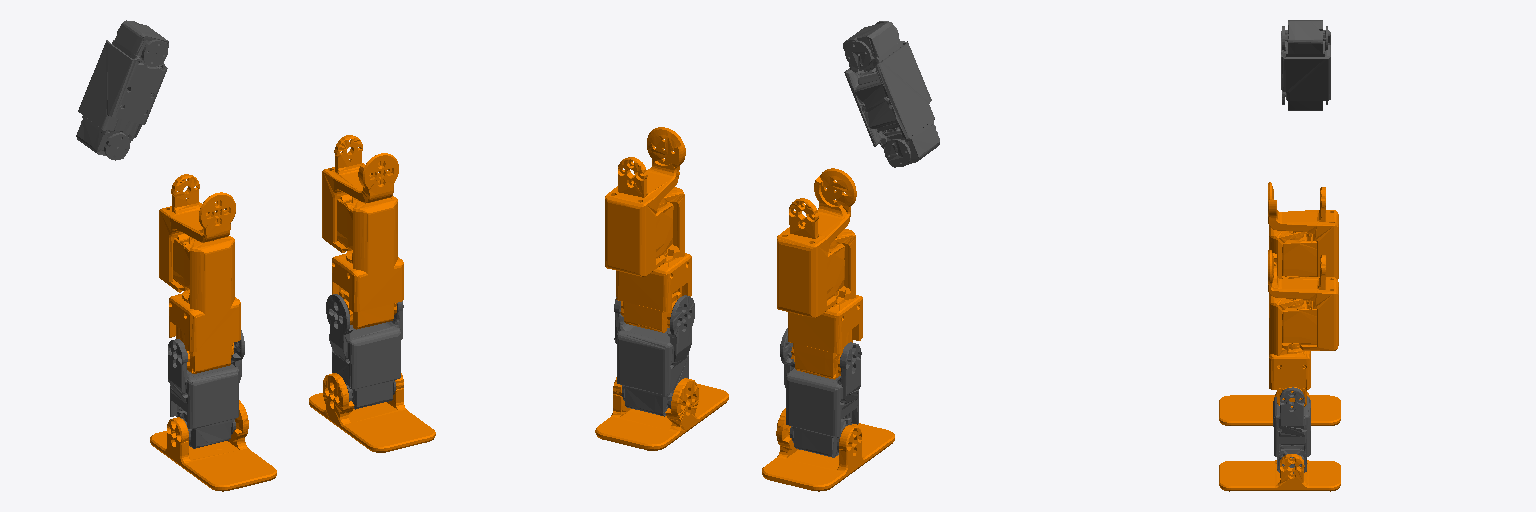
The robot description file, URDF, robot "opus":
<robot name="opus">
  <link name="base">
    <inertial>
      <origin rpy="0 0 0" xyz="0 0 0"/>
      <mass value="0.001"/>
      <inertia ixx="0.000001" ixy="0" ixz="0" iyy="0.000001" iyz="0" izz="0.000001"/>
    </inertial>
  </link>
  <joint name="floating_base" type="fixed">
    <origin rpy="0 0 0" xyz="0 0 0"/>
    <parent link="base"/>
    <child link="Torso"/>
  </joint>
  <link name="Torso">
    <visual>
      <origin xyz="0 0 0" rpy="0 0 0"/>
      <geometry>
        <mesh filename="meshes/Torso.stl"/>
      </geometry>
      <material name="Torso_material">
        <color rgba="0.97254902 0.52941176 0.0039215686 1"/>
      </material>
    </visual>
    <collision>
      <origin xyz="0 0 0" rpy="0 0 0"/>
      <geometry>
        <mesh filename="meshes/Torso.stl"/>
      </geometry>
    </collision>
    <inertial>
      <!-- <mass value="1.4248854441999999"/> -->
      <mass value="1.8248854441999999"/>  <!--用了树脂，重一点点-->
      <inertia ixx="0.0058765463412301395" iyy="0.007356520447853829" izz="0.0023081915779076274" ixy="9.865741890823216e-06" ixz="-7.809997435713428e-05" iyz="0.0004224337112785788"/>
      <origin xyz="0.0005354863436864534 0.0062555554048130445 -0.002152396880228525" rpy="0 0 0"/>
    </inertial>
  </link>
  <joint name="right_shoulder_pitch" type="fixed">
    <origin xyz="-0.07825018475169968 -0.0003268979182753165 0.04615118291827534" rpy="1.5707963 2.220446049250313e-16 1.5707963"/>
    <parent link="Torso"/>
    <child link="right_shoulder_yaw_2"/>
    <limit effort="80" velocity="5" lower="-1.7453293" upper="1.7453293"/>
    <axis xyz="0 0 1"/>
  </joint>
  <link name="right_shoulder_yaw_2">
    <visual>
      <origin xyz="0 0 0" rpy="0 0 0"/>
      <geometry>
        <mesh filename="meshes/right_shoulder_yaw.stl"/>
      </geometry>
      <material name="right_shoulder_yaw_material">
        <color rgba="0.97254902 0.52941176 0.0039215686 1"/>
      </material>
    </visual>
    <collision>
      <origin xyz="0 0 0" rpy="0 0 0"/>
      <geometry>
        <mesh filename="meshes/right_shoulder_yaw.stl"/>
      </geometry>
    </collision>
    <inertial>
      <mass value="0.033295451"/>
      <inertia ixx="8.4337445e-06" iyy="1.8636933e-05" izz="1.8203633e-05" ixy="0" ixz="0" iyz="-1.3716156e-06"/>
      <origin xyz="-0.000140403 -0.0029678782 -0.016943877" rpy="0 0 0"/>
    </inertial>
  </link>
  <joint name="left_shoulder_pitch" type="fixed">
    <origin xyz="0.07804981964830031 -0.0003268980817246539 0.04615118308172467" rpy="-1.5707963071795865 0.0 1.5707963000000003"/>
    <parent link="Torso"/>
    <child link="left_shoulder_yaw_2"/>
    <limit effort="80" velocity="5" lower="-1.7453293" upper="1.7453293"/>
    <axis xyz="0 0 1"/>
  </joint>
  <link name="left_shoulder_yaw_2">
    <visual>
      <origin xyz="0 0 0" rpy="0 0 0"/>
      <geometry>
        <mesh filename="meshes/left_shoulder_yaw.stl"/>
      </geometry>
      <material name="left_shoulder_yaw_material">
        <color rgba="0.97254902 0.52941176 0.0039215686 1"/>
      </material>
    </visual>
    <collision>
      <origin xyz="0 0 0" rpy="0 0 0"/>
      <geometry>
        <mesh filename="meshes/left_shoulder_yaw.stl"/>
      </geometry>
    </collision>
    <inertial>
      <mass value="0.033295444"/>
      <inertia ixx="8.4337338e-06" iyy="1.8636945e-05" izz="1.8203656e-05" ixy="0" ixz="0" iyz="1.3716155e-06"/>
      <origin xyz="-0.00014038019 0.0029678794 -0.016943901" rpy="0 0 0"/>
    </inertial>
  </link>
  <joint name="right_shoulder_yaw" type="fixed">
    <origin xyz="-0.018825 -0.01629921 -0.03" rpy="0 -1.5707963 0"/>
    <parent link="right_shoulder_yaw_2"/>
    <child link="right_shoulder_yaw_motor"/>
    <limit effort="80" velocity="5" lower="-1.134464" upper="0.87266463"/>
    <axis xyz="0 0 1"/>
  </joint>
  <link name="right_shoulder_yaw_motor">
    <visual>
      <origin xyz="0 0 0" rpy="0 0 0"/>
      <geometry>
        <mesh filename="meshes/right_shoulder_yaw_motor.stl"/>
      </geometry>
      <material name="right_shoulder_yaw_motor_material">
        <color rgba="0.4 0.4 0.4 1"/>
      </material>
    </visual>
    <collision>
      <origin xyz="0 0 0" rpy="0 0 0"/>
      <geometry>
        <mesh filename="meshes/right_shoulder_yaw_motor.stl"/>
      </geometry>
    </collision>
    <inertial>
      <mass value="0.16128786299999998"/>
      <inertia ixx="0.0001282286460978685" iyy="5.714169492467824e-05" izz="0.0001340210993915087" ixy="-4.239759029152751e-05" ixz="-1.1438396608325489e-07" iyz="-2.456214639269448e-07"/>
      <origin xyz="-0.015010430955184173 -0.032187644034412904 -0.01778065605422706" rpy="0 0 0"/>
    </inertial>
  </link>
  <joint name="right_hip_pitch" type="revolute">
    <origin xyz="-0.045750183202404315 -0.00032689585567163837 -0.09684882247403085" rpy="-1.570796353589792 -4.6410206566704915e-08 1.5707963000000003"/>
    <parent link="Torso"/>
    <child link="hip_yaw_right"/>
    <limit effort="2" velocity="10" lower="-1.5707963" upper="1.5707963"/>
    <axis xyz="0 0 -1"/>
  </joint>
  <link name="hip_yaw_right">
    <visual>
      <origin xyz="0 0 0" rpy="0 0 0"/>
      <geometry>
        <mesh filename="meshes/hip_yaw_right.stl"/>
      </geometry>
      <material name="hip_yaw_right_material">
        <color rgba="0.97254902 0.52941176 0.0039215686 1"/>
      </material>
    </visual>
    <collision>
      <origin xyz="0 0 0" rpy="0 0 0"/>
      <geometry>
        <mesh filename="meshes/hip_yaw_right.stl"/>
      </geometry>
    </collision>
    <inertial>
      <mass value="0.093205286"/>
      <inertia ixx="3.5980932688562516e-05" iyy="3.079475868405246e-05" izz="3.363688474491135e-05" ixy="-8.041868600591185e-08" ixz="-1.32710024572971e-07" iyz="2.5815838594594426e-07"/>
      <origin xyz="-0.007829567118794163 -0.00031535700327284103 0.01632971429397496" rpy="0 0 0"/>
    </inertial>
  </link>
  <joint name="left_hip_pitch" type="revolute">
    <origin xyz="0.045549819648300315 -0.0003268960191209584 -0.09684882247403085" rpy="1.5707963535897942 -4.6410206566704915e-08 1.5707963000000003"/>
    <parent link="Torso"/>
    <child link="hip_yaw_left"/>
    <limit effort="2" velocity="10" lower="-1.5707963" upper="1.5707963"/>
    <axis xyz="0 0 -1"/>
  </joint>
  <link name="hip_yaw_left">
    <visual>
      <origin xyz="0 0 0" rpy="0 0 0"/>
      <geometry>
        <mesh filename="meshes/hip_yaw_left.stl"/>
      </geometry>
      <material name="hip_yaw_left_material">
        <color rgba="0.97254902 0.52941176 0.0039215686 1"/>
      </material>
    </visual>
    <collision>
      <origin xyz="0 0 0" rpy="0 0 0"/>
      <geometry>
        <mesh filename="meshes/hip_yaw_left.stl"/>
      </geometry>
    </collision>
    <inertial>
      <mass value="0.093205265"/>
      <inertia ixx="3.598094322914315e-05" iyy="3.0794767684145586e-05" izz="3.363688296133449e-05" ixy="8.04201734823105e-08" ixz="-1.327123118684062e-07" iyz="-2.5815315823833023e-07"/>
      <origin xyz="-0.007829559049593036 0.0003153554269474904 0.01632971106200663" rpy="0 0 0"/>
    </inertial>
  </link>
  <joint name="left_shoulder_yaw" type="fixed">
    <origin xyz="-0.018825 0.01629921 -0.03" rpy="3.1415927 1.5707963 0"/>
    <parent link="left_shoulder_yaw_2"/>
    <child link="left_shoulder_yaw_motor"/>
    <limit effort="80" velocity="5" lower="-0.43633231" upper="1.5707963"/>
    <axis xyz="0 0 1"/>
  </joint>
  <link name="left_shoulder_yaw_motor">
    <visual>
      <origin xyz="0 0 0" rpy="0 0 0"/>
      <geometry>
        <mesh filename="meshes/left_shoulder_yaw_motor.stl"/>
      </geometry>
      <material name="left_shoulder_yaw_motor_material">
        <color rgba="0.4 0.4 0.4 1"/>
      </material>
    </visual>
    <collision>
      <origin xyz="0 0 0" rpy="0 0 0"/>
      <geometry>
        <mesh filename="meshes/left_shoulder_yaw_motor.stl"/>
      </geometry>
    </collision>
    <inertial>
      <mass value="0.161287862"/>
      <inertia ixx="0.00012823543337938677" iyy="5.71349654400984e-05" izz="0.00013402113588758784" ixy="4.236890115425267e-05" ixz="1.1438294712508704e-07" iyz="-2.4561958173304096e-07"/>
      <origin xyz="0.015010431336856738 -0.03218764425115605 -0.017780665683893915" rpy="0 0 0"/>
    </inertial>
  </link>
  <joint name="right_hip_yaw" type="revolute">
    <origin xyz="-0.02550000162875169 0 0.019359999918275368" rpy="9.282041333256968e-08 1.5707963000000005 0.0"/>
    <parent link="hip_yaw_right"/>
    <child link="hip_roll_right"/>
    <limit effort="2" velocity="10" lower="-0.3" upper="0.1"/>
    <axis xyz="0 0 1"/>
  </joint>
  <link name="hip_roll_right">
    <visual>
      <origin xyz="0 0 0" rpy="0 0 0"/>
      <geometry>
        <mesh filename="meshes/hip_roll_right.stl"/>
      </geometry>
      <material name="hip_roll_right_material">
        <color rgba="0.97254902 0.52941176 0.0039215686 1"/>
      </material>
    </visual>
    <collision>
      <origin xyz="0 0 0" rpy="0 0 0"/>
      <geometry>
        <mesh filename="meshes/hip_roll_right.stl"/>
      </geometry>
    </collision>
    <inertial>
      <mass value="0.09928883999999999"/>
      <inertia ixx="5.45820585897724e-05" iyy="3.1418507176367875e-05" izz="3.7405777942224154e-05" ixy="6.085393720802971e-08" ixz="-1.365718623147563e-08" iyz="-2.939852904112034e-06"/>
      <origin xyz="3.956240018912118e-05 0.044547258633220656 0.027195276046662446" rpy="0 0 0"/>
    </inertial>
  </link>
  <joint name="left_hip_yaw" type="revolute">
    <origin xyz="-0.02550000297464769 0 0.01936000008172467" rpy="-3.1415926071795863 -1.5707963 0.0"/>
    <parent link="hip_yaw_left"/>
    <child link="hip_roll_left"/>
    <limit effort="2" velocity="10" lower="-0.1" upper="0.3"/>
    <axis xyz="0 0 1"/>
  </joint>
  <link name="hip_roll_left">
    <visual>
      <origin xyz="0 0 0" rpy="0 0 0"/>
      <geometry>
        <mesh filename="meshes/hip_roll_left.stl"/>
      </geometry>
      <material name="hip_roll_left_material">
        <color rgba="0.97254902 0.52941176 0.0039215686 1"/>
      </material>
    </visual>
    <collision>
      <origin xyz="0 0 0" rpy="0 0 0"/>
      <geometry>
        <mesh filename="meshes/hip_roll_left.stl"/>
      </geometry>
    </collision>
    <inertial>
      <mass value="0.099288915"/>
      <inertia ixx="5.458213655994396e-05" iyy="3.1418545608837986e-05" izz="3.7405827480720214e-05" ixy="-6.085408209304445e-08" ixz="1.3657291982195708e-08" iyz="-2.9398246336732913e-06"/>
      <origin xyz="-3.956346057105248e-05 0.0445472299493746 0.0271952803565074" rpy="0 0 0"/>
    </inertial>
  </link>
  <joint name="right_elbow_yaw" type="fixed">
    <origin xyz="-0.030003116165437632 -0.06434189265302206 -0.03815000134589600138" rpy="0 -1.961380480253183e-08 2.7052603000000013"/>
    <parent link="right_shoulder_yaw_motor"/>
    <child link="right_hand"/>
    <limit effort="2" velocity="10" lower="-1.57" upper="1.57"/>
    <axis xyz="0 0 1"/>
  </joint>
  <link name="right_hand">
    <visual>
      <origin xyz="0 0 0" rpy="0 0 0"/>
      <geometry>
        <mesh filename="meshes/right_hand.stl"/>
      </geometry>
      <material name="right_hand_material">
        <color rgba="0.98039216 0.71372549 0.0039215686 1"/>
      </material>
    </visual>
    <collision>
      <origin xyz="0 0 0" rpy="0 0 0"/>
      <geometry>
        <mesh filename="meshes/right_hand.stl"/>
      </geometry>
    </collision>
    <inertial>
      <mass value="0.057633913"/>
      <inertia ixx="4.3605723e-05" iyy="1.217183e-05" izz="3.5510016e-05" ixy="0" ixz="0" iyz="1.2142684e-06"/>
      <origin xyz="-3.1209033e-05 -0.045881174 0.018344256" rpy="0 0 0"/>
    </inertial>
  </link>
  <joint name="left_elbow_yaw" type="fixed">
    <origin xyz="0.03000311710160605 -0.06434189183411612 -0.03815000134589600138" rpy="0 -1.7763568394002505e-15 -2.70526039"/>
    <parent link="left_shoulder_yaw_motor"/>
    <child link="left_hand"/>
    <limit effort="2" velocity="10" lower="-1.5707963" upper="1.5707963"/>
    <axis xyz="0 0 1"/>
  </joint>
  <link name="left_hand">
    <visual>
      <origin xyz="0 0 0" rpy="0 0 0"/>
      <geometry>
        <mesh filename="meshes/left_hand.stl"/>
      </geometry>
      <material name="left_hand_material">
        <color rgba="0.98039216 0.71372549 0.0039215686 1"/>
      </material>
    </visual>
    <collision>
      <origin xyz="0 0 0" rpy="0 0 0"/>
      <geometry>
        <mesh filename="meshes/left_hand.stl"/>
      </geometry>
    </collision>
    <inertial>
      <mass value="0.057634594"/>
      <inertia ixx="4.3606206e-05" iyy="1.2172072e-05" izz="3.5510313e-05" ixy="0" ixz="0" iyz="1.2144458e-06"/>
      <origin xyz="3.124228e-05 -0.045881024 0.018344103" rpy="0 0 0"/>
    </inertial>
  </link>
  <joint name="right_hip_roll" type="revolute">
    <origin xyz="0.0 0.07776001212246713 0.015000000939161373" rpy="-1.5707963 0.0 0.0"/>
    <parent link="hip_roll_right"/>
    <child link="knee_pitch_right"/>
    <limit effort="2" velocity="10" lower="-0.78539816" upper="0.78539816"/>
    <axis xyz="0 0 -1"/>
  </joint>
  <link name="knee_pitch_right">
    <visual>
      <origin xyz="0 0 -0.01" rpy="0 0 0"/>
      <geometry>
        <mesh filename="meshes/knee_pitch_right.stl"/>
      </geometry>
      <material name="knee_pitch_right_material">
        <color rgba="0.97254902 0.52941176 0.0039215686 1"/>
      </material>
    </visual>
    <collision>
      <origin xyz="0 0 0" rpy="0 0 0"/>
      <geometry>
        <mesh filename="meshes/knee_pitch_right.stl"/>
      </geometry>
    </collision>
    <inertial>
      <mass value="0.017415556"/>
      <inertia ixx="8.6779628e-06" iyy="1.0846052e-05" izz="4.8769685e-06" ixy="0" ixz="0" iyz="1.5102056e-06"/>
      <origin xyz="0.0008320716 0.0066344401 -0.0053563614" rpy="0 0 0"/>
    </inertial>
  </link>
  <joint name="left_hip_roll" type="revolute">
    <origin xyz="0.0 0.07776001212246713 0.014999999060838654" rpy="-1.5707963071795865 0.0 0.0"/>
    <parent link="hip_roll_left"/>
    <child link="knee_pitch_left"/>
    <limit effort="2" velocity="10" lower="-0.78539816" upper="0.78539816"/>
    <axis xyz="0 0 -1"/>
  </joint>
  <link name="knee_pitch_left">
    <visual>
      <origin xyz="0 0 -0.01" rpy="0 0 0"/>
      <geometry>
        <mesh filename="meshes/knee_pitch_left.stl"/>
      </geometry>
      <material name="knee_pitch_left_material">
        <color rgba="0.97254902 0.52941176 0.0039215686 1"/>
      </material>
    </visual>
    <collision>
      <origin xyz="0 0 0" rpy="0 0 0"/>
      <geometry>
        <mesh filename="meshes/knee_pitch_left.stl"/>
      </geometry>
    </collision>
    <inertial>
      <mass value="0.017415406"/>
      <inertia ixx="8.6779408e-06" iyy="1.0845969e-05" izz="4.8769057e-06" ixy="0" ixz="0" iyz="1.5102123e-06"/>
      <origin xyz="-0.00083189379 0.0066344111 -0.0053564637" rpy="0 0 0"/>
    </inertial>
  </link>
  <joint name="left_knee_pitch" type="revolute">
    <origin xyz="0.020825 0 0.03271" rpy="1.5707963 0 -1.5707963"/>
    <parent link="knee_pitch_left"/>
    <child link="ankle_pitch_left"/>
    <limit effort="2" velocity="10" lower="-1.5707963" upper="1.5707963"/>
    <axis xyz="0 0 -1"/>
  </joint>
  <link name="ankle_pitch_left">
    <visual>
      <origin xyz="0 0 0" rpy="0 0 0"/>
      <geometry>
        <mesh filename="meshes/ankle_pitch_left.stl"/>
      </geometry>
      <material name="ankle_pitch_left_material">
        <color rgba="0.4 0.4 0.4 1"/>
      </material>
    </visual>
    <collision>
      <origin xyz="0 0 0" rpy="0 0 0"/>
      <geometry>
        <mesh filename="meshes/ankle_pitch_left.stl"/>
      </geometry>
    </collision>
    <inertial>
      <mass value="0.164074011"/>
      <inertia ixx="0.0001759891275884663" iyy="3.8396680240248e-05" izz="0.0001617316694012751" ixy="8.172012592062923e-09" ixz="-5.793353129267912e-16" iyz="-5.5025788380171526e-12"/>
      <origin xyz="5.2852977297875645e-11 0.03886000044248171 0.01767796761874614" rpy="0 0 0"/>
    </inertial>
  </link>
  <joint name="right_knee_pitch" type="revolute">
    <origin xyz="-0.020825 0 0.03271" rpy="-1.5707963 0 -1.5707963"/>
    <parent link="knee_pitch_right"/>
    <child link="ankle_pitch_right"/>
    <limit effort="2" velocity="10" lower="-1.5707963" upper="1.5707963"/>
    <axis xyz="0 0 -1"/>
  </joint>
  <link name="ankle_pitch_right">
    <visual>
      <origin xyz="0 0 0" rpy="0 0 0"/>
      <geometry>
        <mesh filename="meshes/ankle_pitch_right.stl"/>
      </geometry>
      <material name="ankle_pitch_right_material">
        <color rgba="0.4 0.4 0.4 1"/>
      </material>
    </visual>
    <collision>
      <origin xyz="0 0 0" rpy="0 0 0"/>
      <geometry>
        <mesh filename="meshes/ankle_pitch_right.stl"/>
      </geometry>
    </collision>
    <inertial>
      <mass value="0.164074011"/>
      <inertia ixx="0.00017599112233775987" iyy="3.839863803219483e-05" izz="0.0001617317061595657" ixy="-8.175358152241977e-09" ixz="-7.329977678382562e-11" iyz="-1.0385897269029696e-06"/>
      <origin xyz="-1.2427714698980854e-10 -0.03886000031058351 0.017450949790695548" rpy="0 0 0"/>
    </inertial>
  </link>
  <joint name="right_ankle_pitch" type="revolute">
    <origin xyz="0.0 -0.06 0" rpy="9.282041357749903e-08 0.0 0.0"/>
    <parent link="ankle_pitch_right"/>
    <child link="foot_right"/>
    <limit effort="2" velocity="10" lower="-1.5707963" upper="1.5707963"/>
    <axis xyz="0 0 1"/>
  </joint>
  <link name="foot_right">
    <visual>
      <origin xyz="0 0 0" rpy="0 0 0"/>
      <geometry>
        <mesh filename="meshes/foot_right.stl"/>
      </geometry>
      <material name="foot_right_material">
        <color rgba="0.97254902 0.52941176 0.0039215686 1"/>
      </material>
    </visual>
    <collision>
      <origin xyz="0 0 0" rpy="0 0 0"/>
      <geometry>
        <mesh filename="meshes/foot_right.stl"/>
      </geometry>
    </collision>
    <inertial>
      <mass value="0.074314817"/>
      <inertia ixx="1.9631338e-05" iyy="7.1603877e-05" izz="6.0479365e-05" ixy="1.1859313e-06" ixz="0" iyz="0"/>
      <origin xyz="-0.0090965446 0.022946882 0.018633716" rpy="0 0 0"/>
    </inertial>
  </link>
  <joint name="left_ankle_pitch" type="revolute">
    <origin xyz="0.0 0.06 0" rpy="9.282041357749903e-08 0.0 0.0"/>
    <parent link="ankle_pitch_left"/>
    <child link="foot_left"/>
    <limit effort="2" velocity="10" lower="-1.5707963" upper="1.5707963"/>
    <axis xyz="0 0 1"/>
  </joint>
  <link name="foot_left">
    <visual>
      <origin xyz="0 0 0" rpy="0 0 0"/>
      <geometry>
        <mesh filename="meshes/foot_left.stl"/>
      </geometry>
      <material name="foot_left_material">
        <color rgba="0.97254902 0.52941176 0.0039215686 1"/>
      </material>
    </visual>
    <collision>
      <origin xyz="0 0 0" rpy="0 0 0"/>
      <geometry>
        <mesh filename="meshes/foot_left.stl"/>
      </geometry>
    </collision>
    <inertial>
      <mass value="0.074314614"/>
      <inertia ixx="1.9631258e-05" iyy="7.1603127e-05" izz="6.0478707e-05" ixy="-1.18593e-06" ixz="0" iyz="0"/>
      <origin xyz="-0.0090963699 -0.022946876 0.018633446" rpy="0 0 0"/>
    </inertial>
  </link>
</robot>

--- What the picture shows (computed from the rendered views, not written in the file) ---
The picture shows the robot from 3 angles, left to right: view 1: azimuth 30°, elevation 25°; view 2: azimuth 150°, elevation 25°; view 3: azimuth 270°, elevation 25°; orthographic projection.
Robot: opus — 18 links, 17 joints (10 revolute, 7 fixed); root link base; default pose: all joints at 0.
Visible links, largest first — view 1: right_shoulder_yaw_motor, knee_pitch_right, knee_pitch_left, ankle_pitch_left, ankle_pitch_right, hip_roll_right, hip_roll_left, foot_left, foot_right; view 2: right_shoulder_yaw_motor, hip_roll_right, hip_roll_left, ankle_pitch_left, ankle_pitch_right, knee_pitch_right, knee_pitch_left, foot_right, foot_left; view 3: hip_roll_left, right_shoulder_yaw_motor, hip_roll_right, foot_left, knee_pitch_left, foot_right, ankle_pitch_left, knee_pitch_right.
Link boxes in pixels (x1,y1,x2,y2): right_shoulder_yaw_motor: (76, 20, 168, 160); knee_pitch_right: (169, 236, 240, 373); knee_pitch_left: (332, 196, 403, 329); ankle_pitch_left: (326, 294, 403, 409); ankle_pitch_right: (168, 330, 244, 448); hip_roll_right: (159, 174, 235, 292); hip_roll_left: (322, 135, 398, 252); foot_left: (309, 373, 435, 452); foot_right: (150, 400, 276, 491); right_shoulder_yaw_motor: (843, 21, 939, 167); hip_roll_right: (777, 168, 856, 317); hip_roll_left: (605, 127, 685, 276); ankle_pitch_left: (614, 295, 694, 416); ankle_pitch_right: (780, 328, 861, 457); knee_pitch_right: (788, 229, 862, 379); knee_pitch_left: (616, 187, 691, 332); foot_right: (762, 408, 894, 491); foot_left: (595, 377, 728, 450); hip_roll_left: (1268, 250, 1338, 350); right_shoulder_yaw_motor: (1281, 20, 1330, 110); hip_roll_right: (1268, 182, 1338, 279); foot_left: (1219, 454, 1340, 491); knee_pitch_left: (1269, 294, 1310, 407); foot_right: (1219, 392, 1340, 425); ankle_pitch_left: (1273, 387, 1310, 473); knee_pitch_right: (1269, 226, 1304, 278).
Bounding box of the posed robot: 0.2413 × 0.1 × 0.3322 m (x, y, z).
Meshes: 17 distinct files referenced, 9 mesh visuals loaded (9 binary STL); not drawn: 8 (reference not matched to a file when rendering).